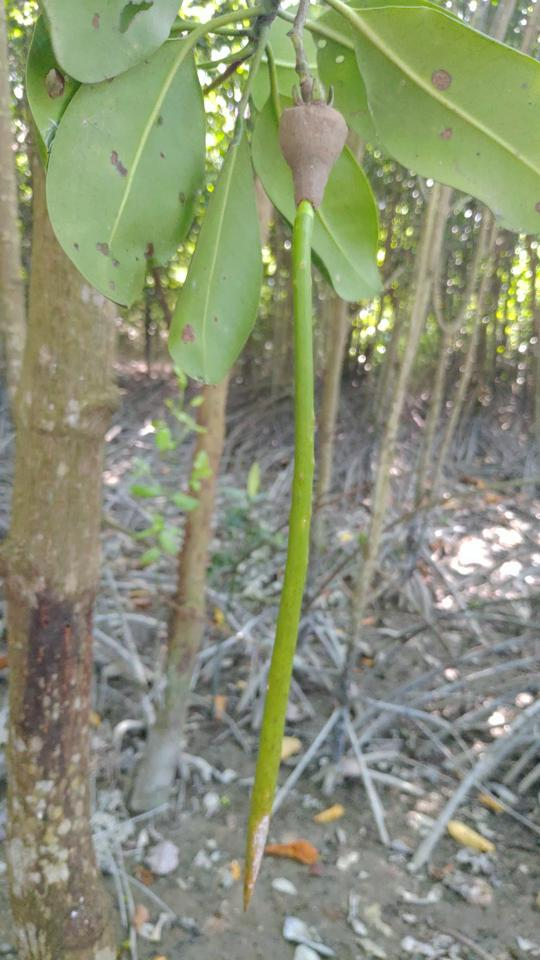setengah matang: (231, 79, 356, 927)
